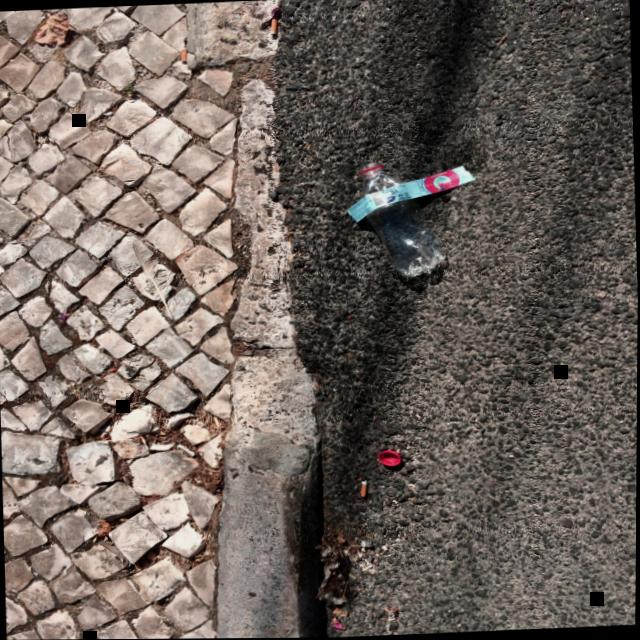Cigarette: (140, 435, 149, 451), (361, 480, 368, 497), (270, 19, 277, 34), (181, 47, 187, 62)
Clear plastic bottle: (359, 162, 446, 278)
Plastic bottle cap: (378, 450, 401, 466)
Wrapping paper: (347, 166, 475, 223)
